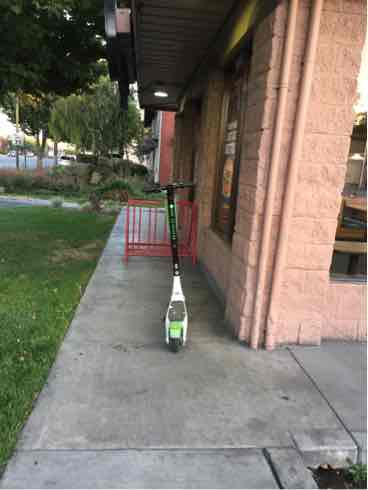scooter: (137, 177, 206, 356)
